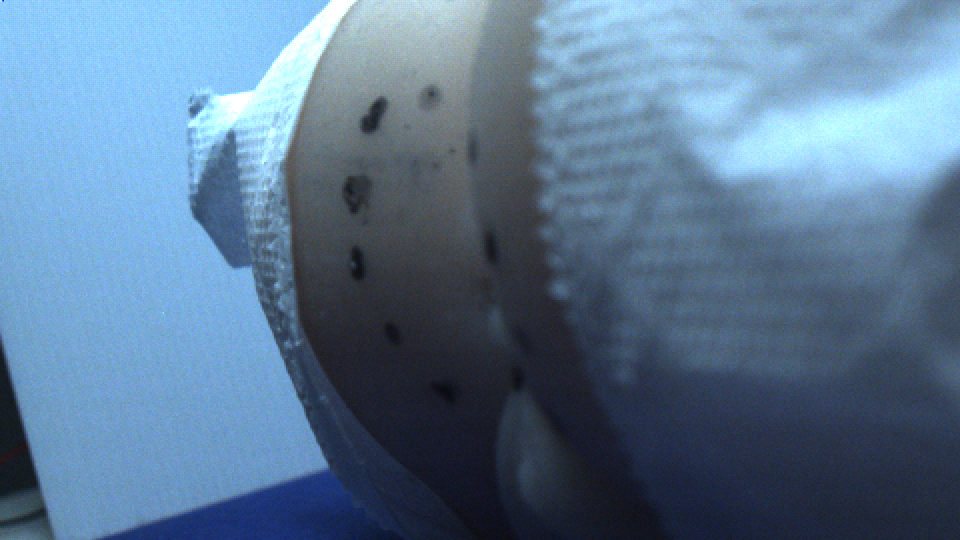asarp_marker: (332, 172, 378, 215), (351, 94, 395, 137), (422, 376, 473, 413), (345, 240, 373, 287), (413, 81, 447, 112), (374, 315, 402, 350), (462, 130, 481, 165), (482, 227, 501, 260)
